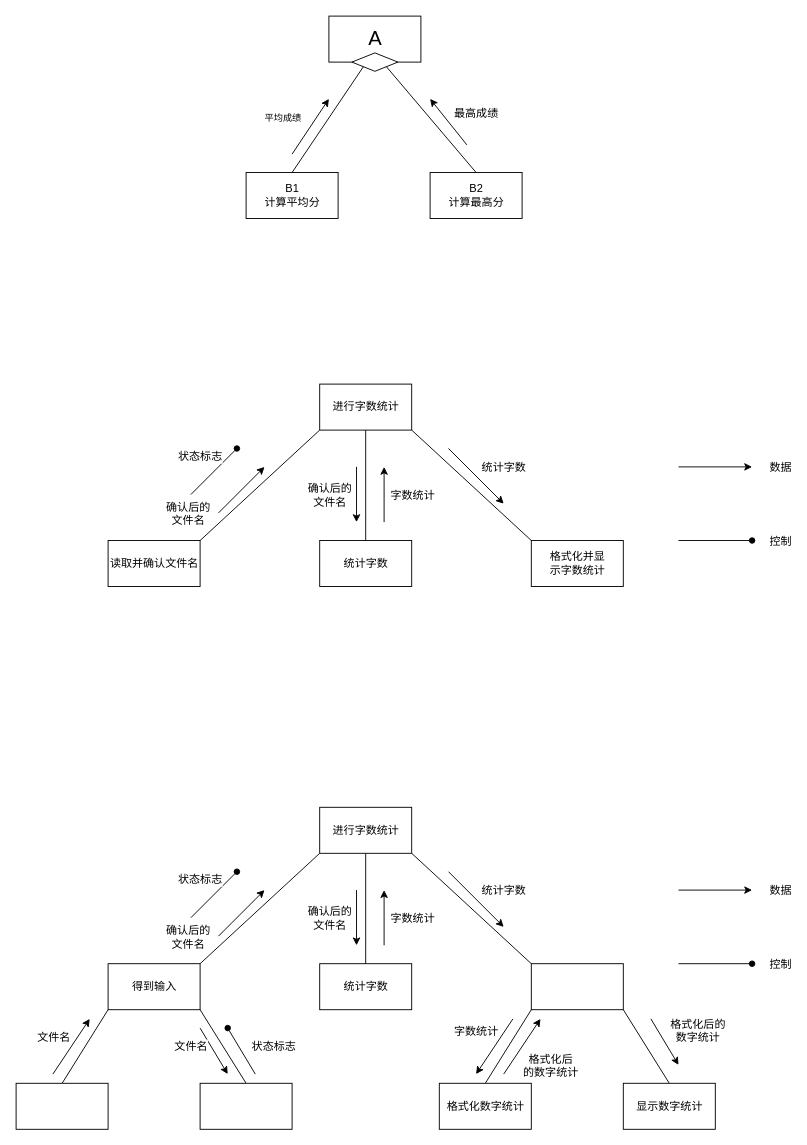
The diagram is 807 pixels wide and 1145 high, and some of its shapes have lost their labels. The box of each missing label's shape, as (x1, y1, x2, y2) in pixels:
产生输出: (530, 963, 623, 1010)
确认文件名: (199, 1082, 292, 1129)
读取文件名: (15, 1082, 108, 1129)
